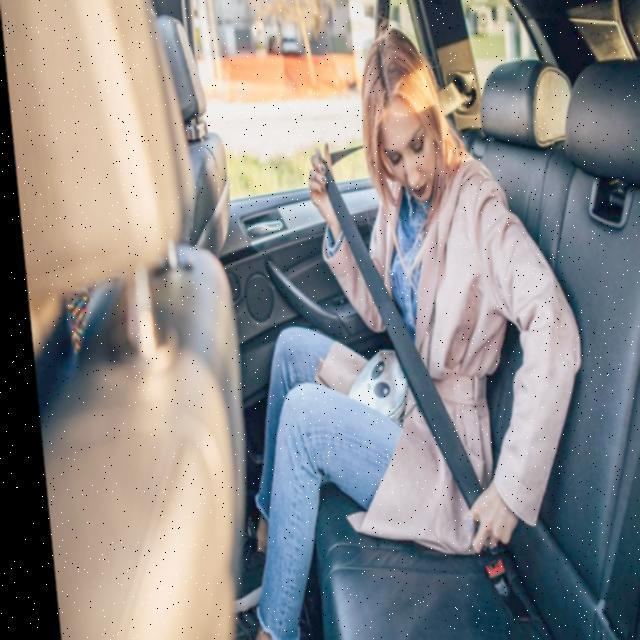seatbelt: (322, 187, 492, 547)
